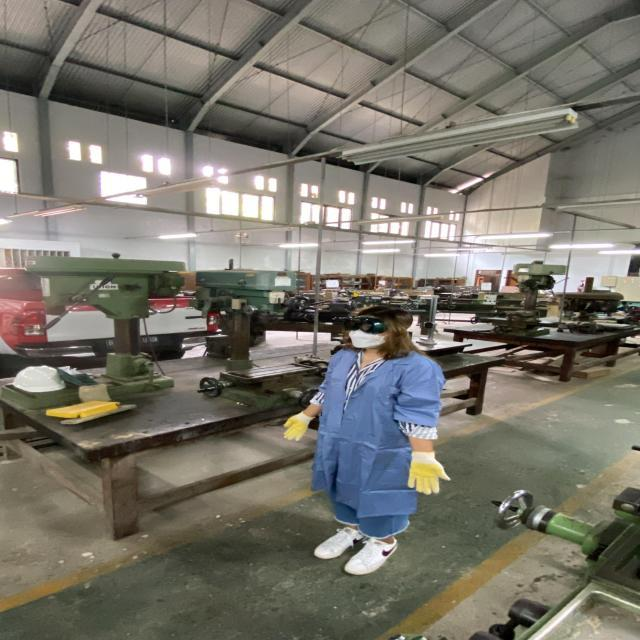glasses: (340, 314, 393, 334)
